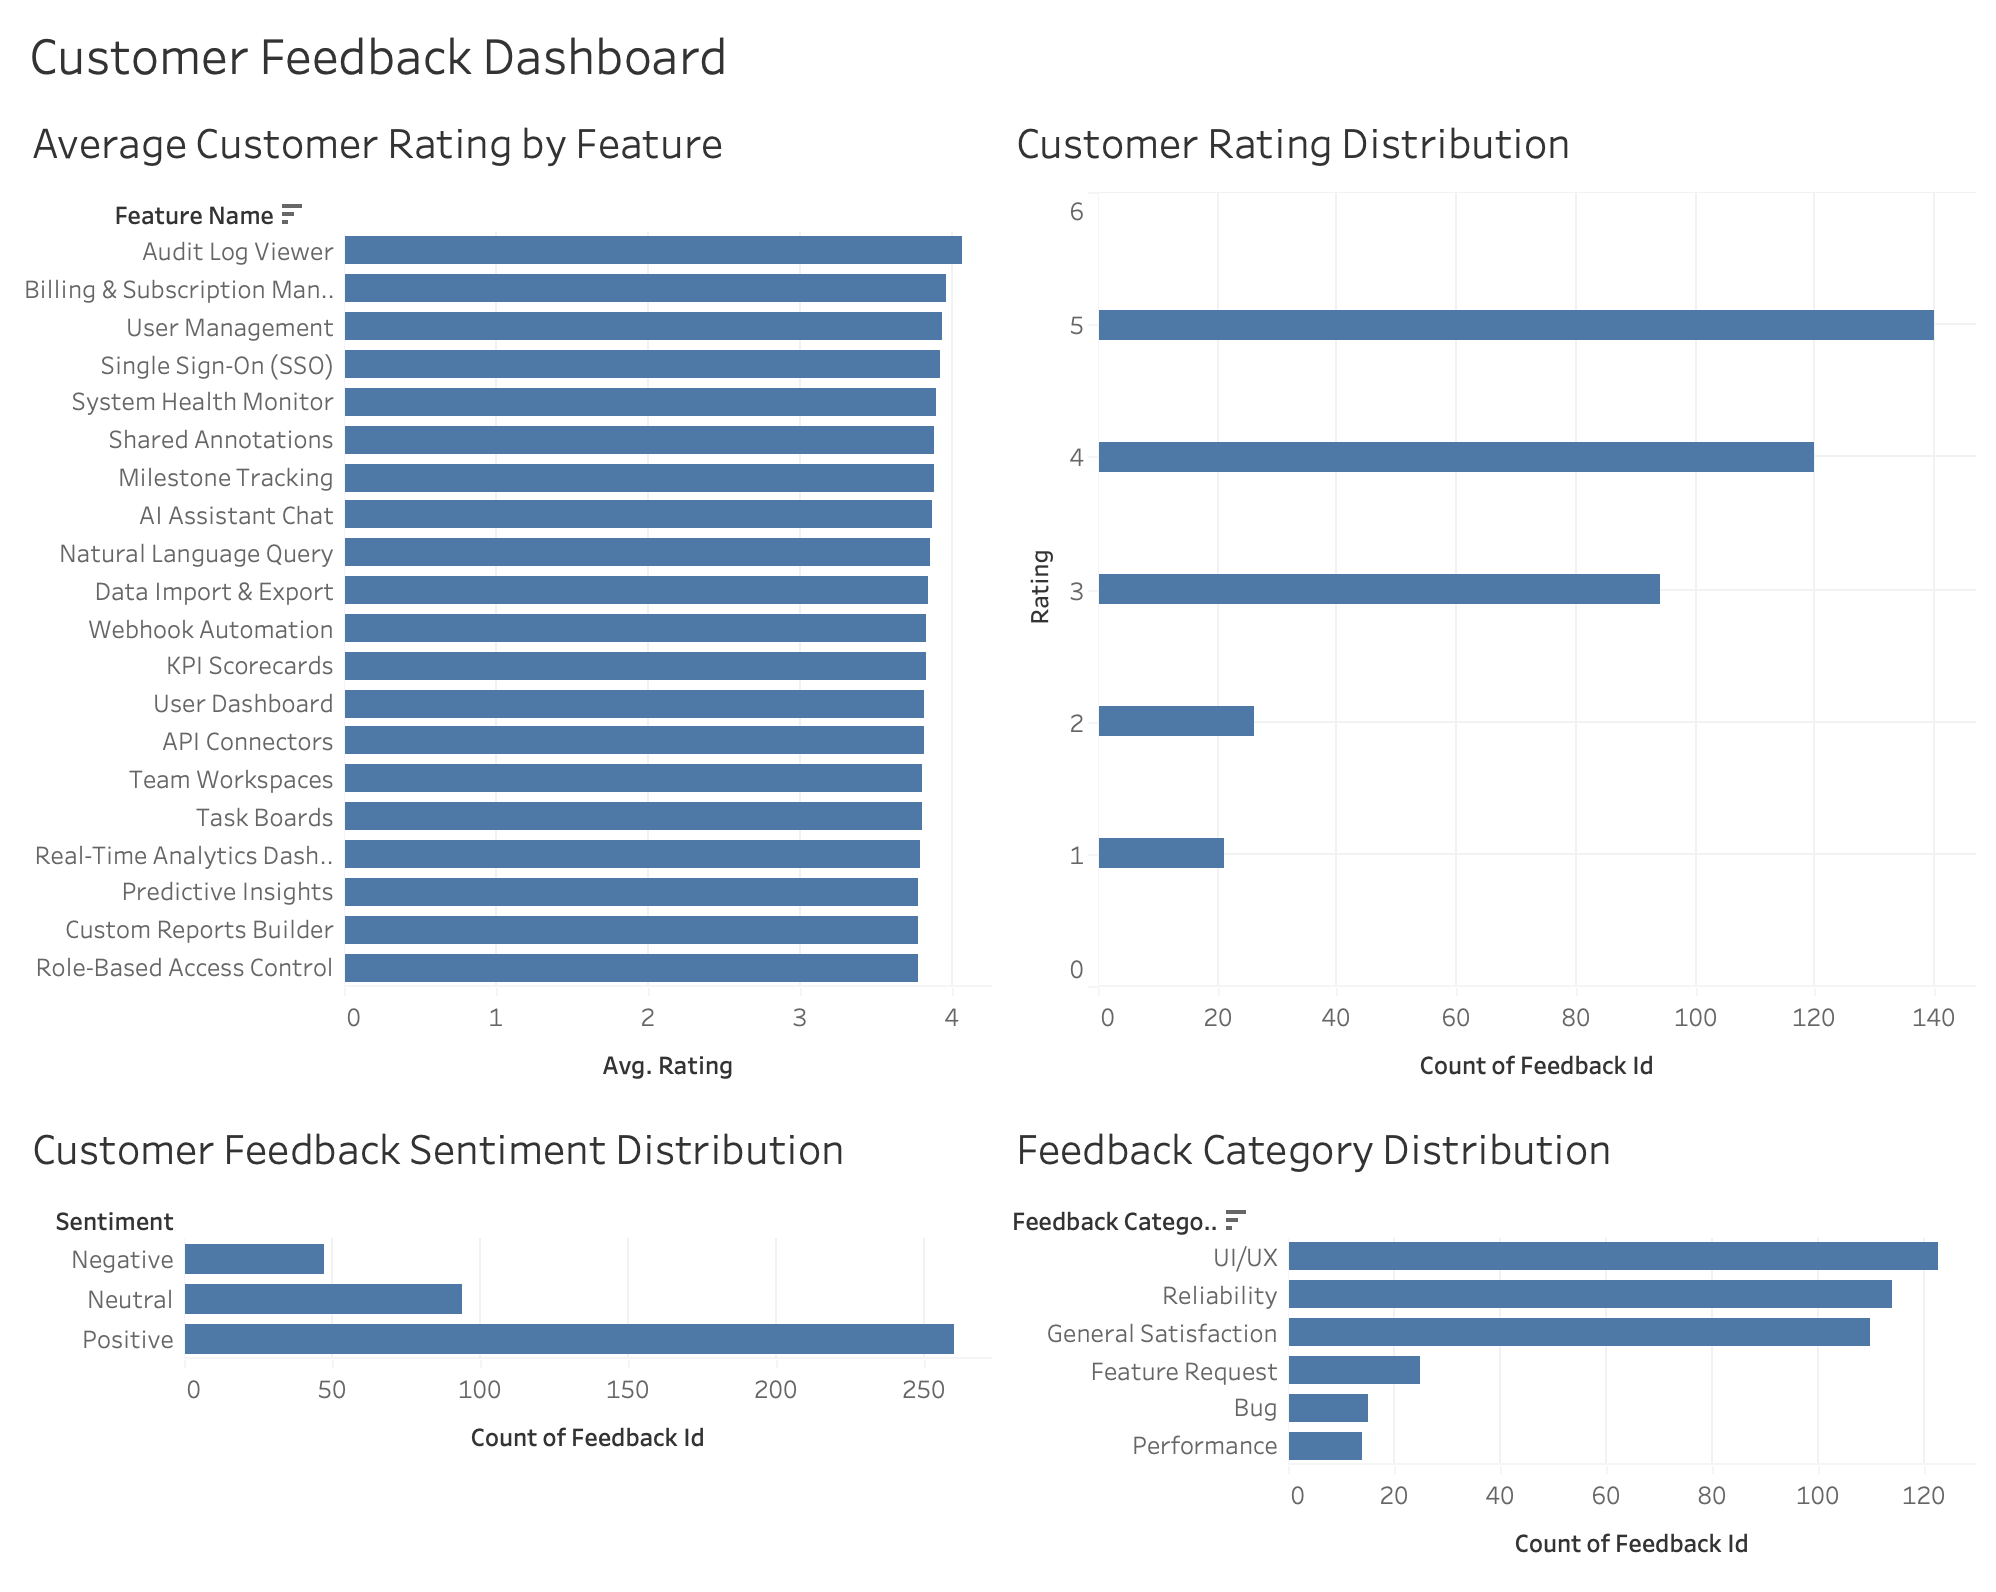

The dashboard page shown, as its layout file describes it:
{"tool":"tableau","page":{"name":"Customer Feedback Dashboard","canvas":[1000,800],"ordinal":0},"visuals":[{"type":"title","box":[8,8,984,42]},{"type":"worksheet","title":"Average Customer Rating by Feature","mark":"Automatic","rows":["feature_name"],"cols":["rating"],"box":[8,50,492,503]},{"type":"worksheet","title":"Customer Rating Distribution","mark":"Bar","rows":["rating"],"cols":["feedback_id"],"box":[500,50,492,503]},{"type":"worksheet","title":"Customer Feedback Sentiment Distribution","mark":"Bar","rows":["sentiment"],"cols":["feedback_id"],"box":[8,553,492,239]},{"type":"worksheet","title":"Feedback Category Distribution","mark":"Automatic","rows":["feedback_category"],"cols":["feedback_id"],"box":[500,553,492,239]}]}

Visuals, with their boxes in screenshot pixels (x1, y1, x2, y2), scaled from the page's 1000x800 canvas onto the 1996x1592 screenshot:
title: bbox=(16, 16, 1980, 100)
"Average Customer Rating by Feature" worksheet: bbox=(16, 100, 998, 1100)
"Customer Rating Distribution" worksheet (Bar marks): bbox=(998, 100, 1980, 1100)
"Customer Feedback Sentiment Distribution" worksheet (Bar marks): bbox=(16, 1100, 998, 1576)
"Feedback Category Distribution" worksheet: bbox=(998, 1100, 1980, 1576)
